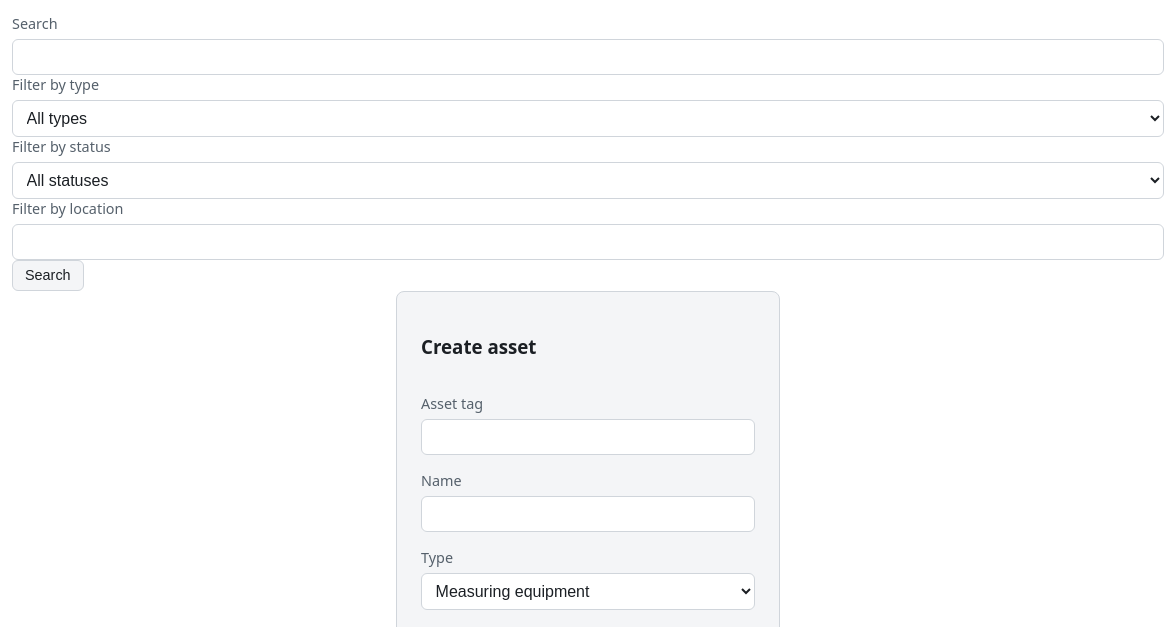
it: AssetsPage › keeps the latest filtered response when requests resolve out of order
The width and height of the screenshot is (1176, 627).
Type "new" into the search field labelled "Search". click: (588, 57)
box: 12,39 -> 1164,75
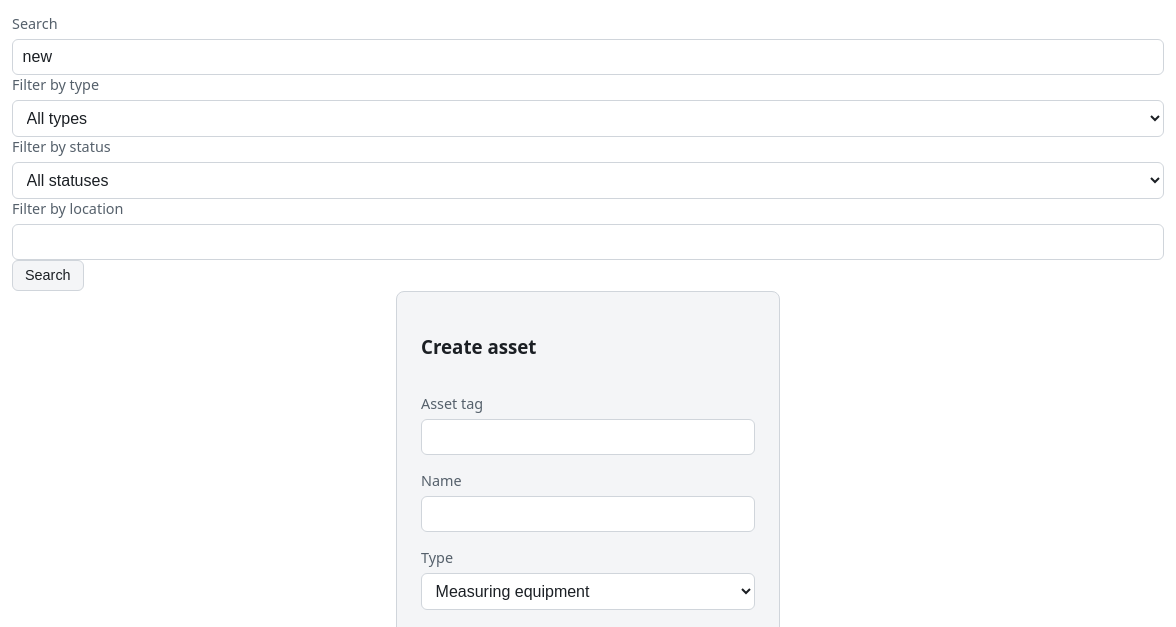
Click the button "Search". click: (48, 275)
box: 12,260 -> 84,291
(page scrolled)
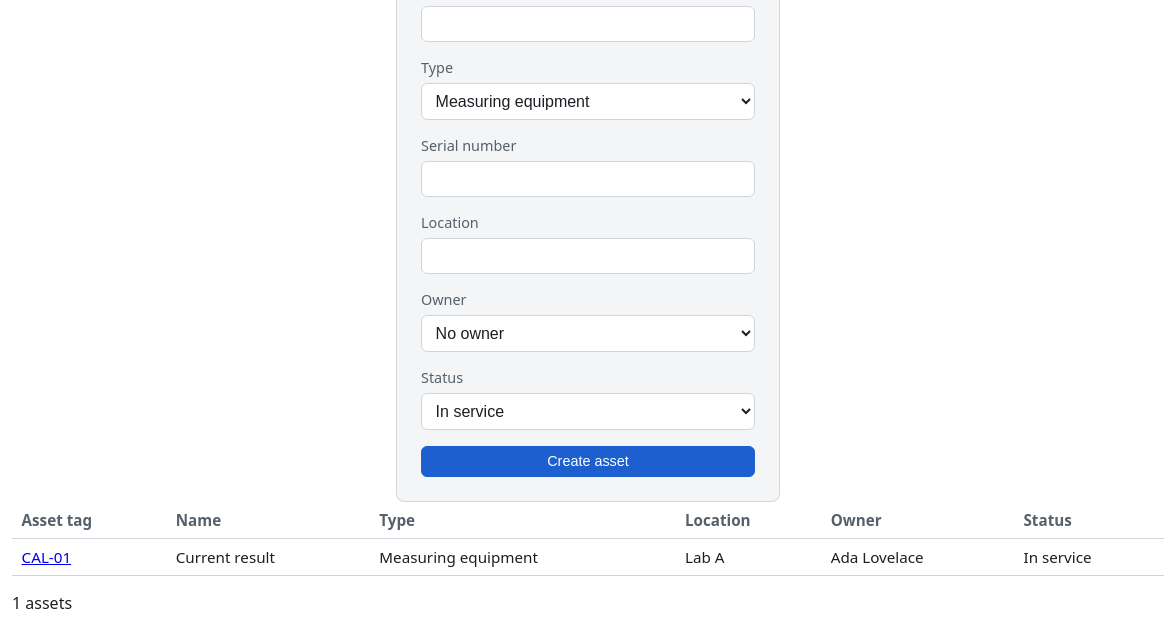
Expected: the text "Current result" is shown, 166,538 -> 370,575
